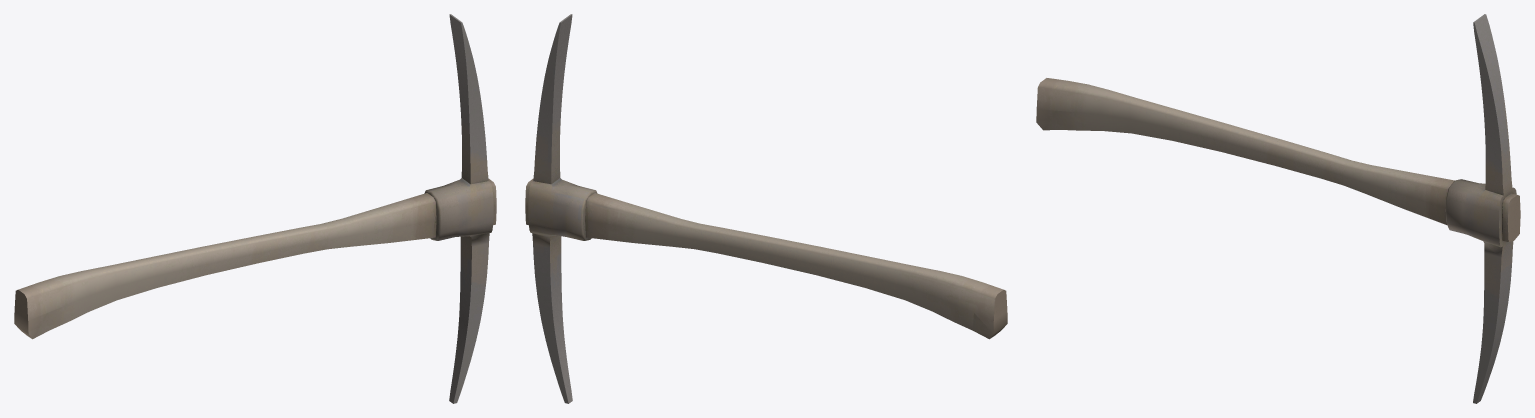
Rendered from props_2fort_pick001.glb.
3 renders of one model, left to right at view 1: azimuth 30°, elevation 25°; view 2: azimuth 150°, elevation 25°; view 3: azimuth 330°, elevation 25°, orthographic.
Parts seen in each view (by area): view 1: models/props_2fort/pick001; view 2: models/props_2fort/pick001; view 3: models/props_2fort/pick001.
Boxes of the visible parts, box(x1,y1,x2,y2) form: models/props_2fort/pick001: box(14, 14, 496, 403); models/props_2fort/pick001: box(525, 14, 1007, 403); models/props_2fort/pick001: box(1036, 14, 1520, 403).
Bounding box in the file's own units: 56.5 × 44.08 × 3.84.
1 material, 1 textured.
